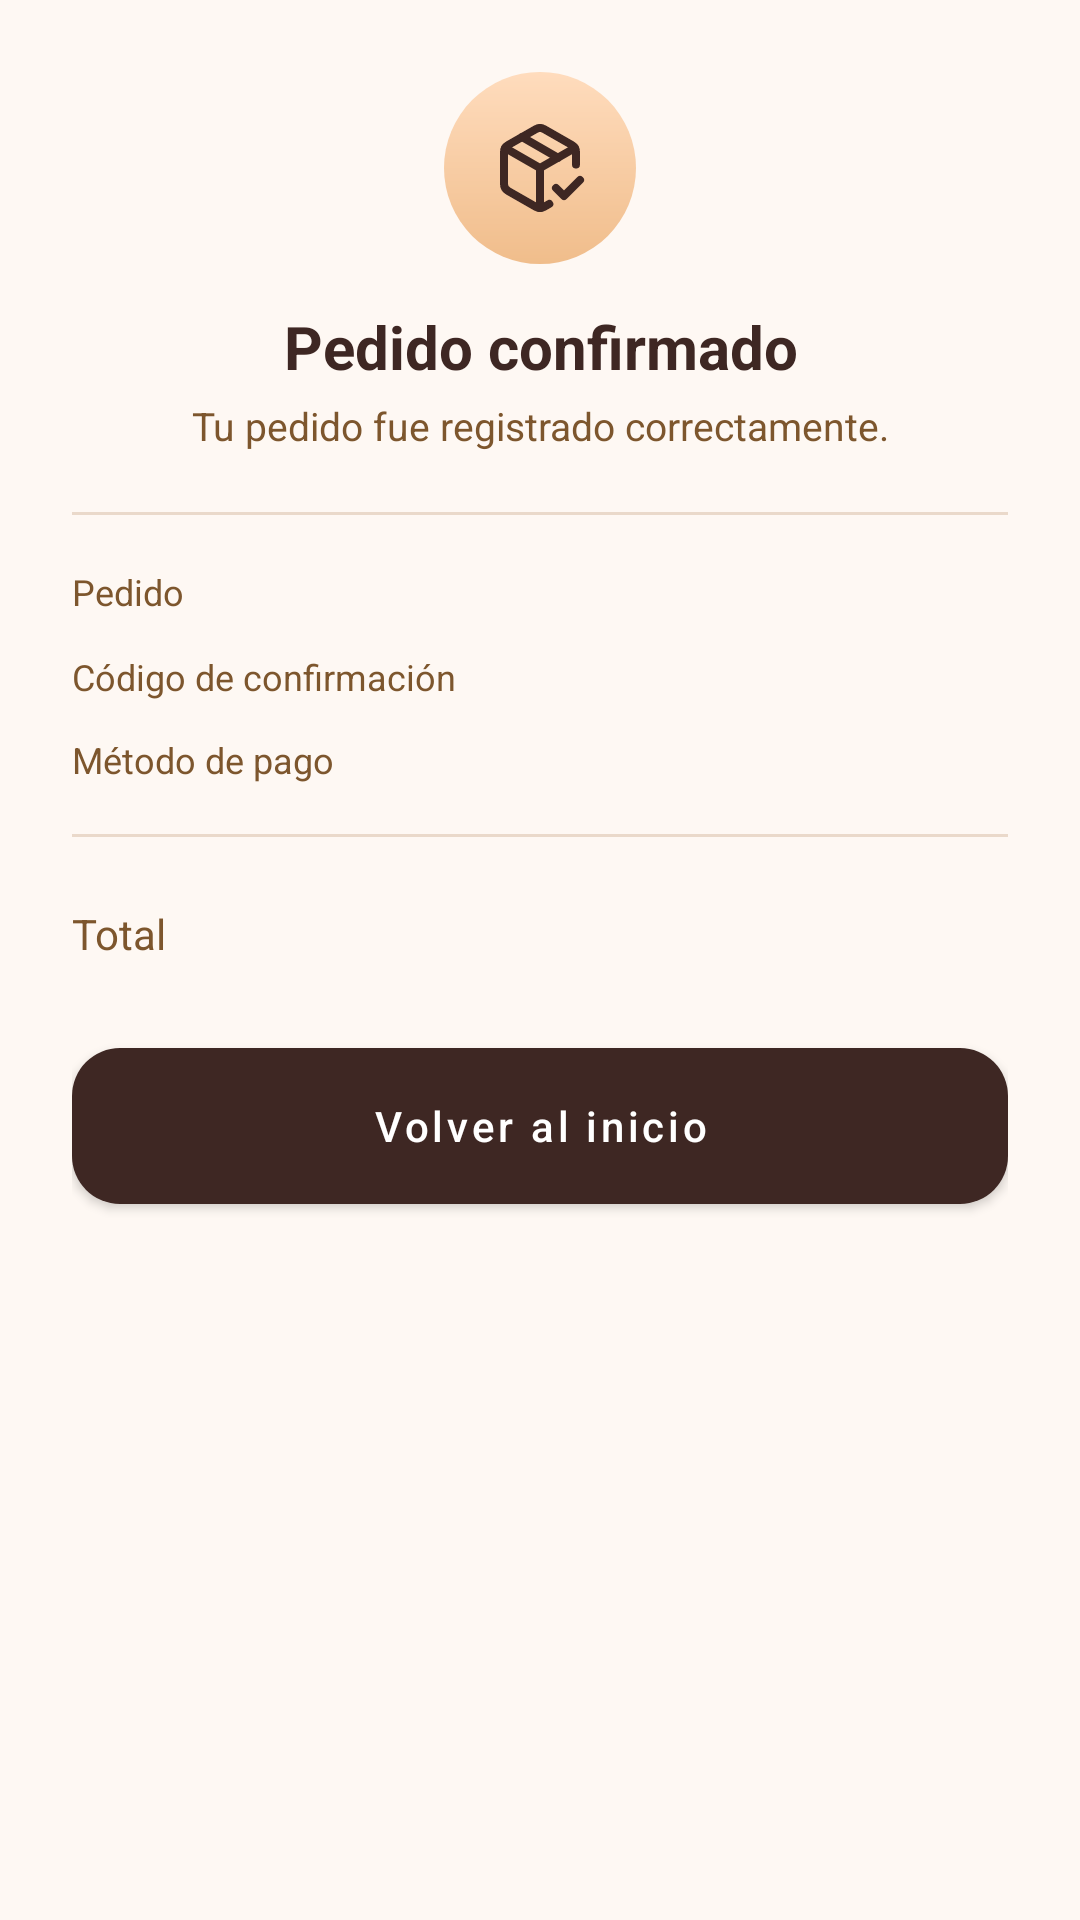

Screen size 1080x1920. Icon name, then its box in pixels as {"x1": x1, "y1": y1, "x2": x2, "y2": y2}:
package check: {"x1": 444, "y1": 72, "x2": 636, "y2": 264}
